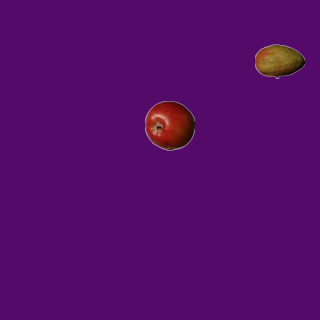Apple Braeburn: (144, 100, 194, 150)
Papaya: (254, 36, 304, 86)
